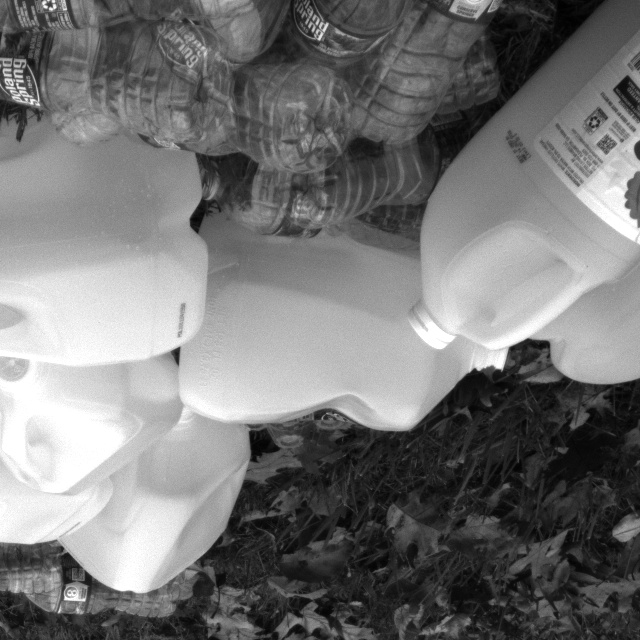bottle: (13, 10, 328, 199), (342, 0, 525, 151), (243, 146, 461, 227), (27, 554, 205, 640)
can: (394, 0, 640, 368), (156, 213, 492, 456), (0, 124, 223, 375), (39, 386, 256, 601), (487, 105, 640, 404), (0, 286, 183, 497), (0, 329, 121, 561)
container: (246, 383, 383, 480)
